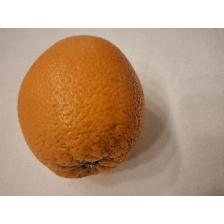Orange: (15, 34, 146, 180)
